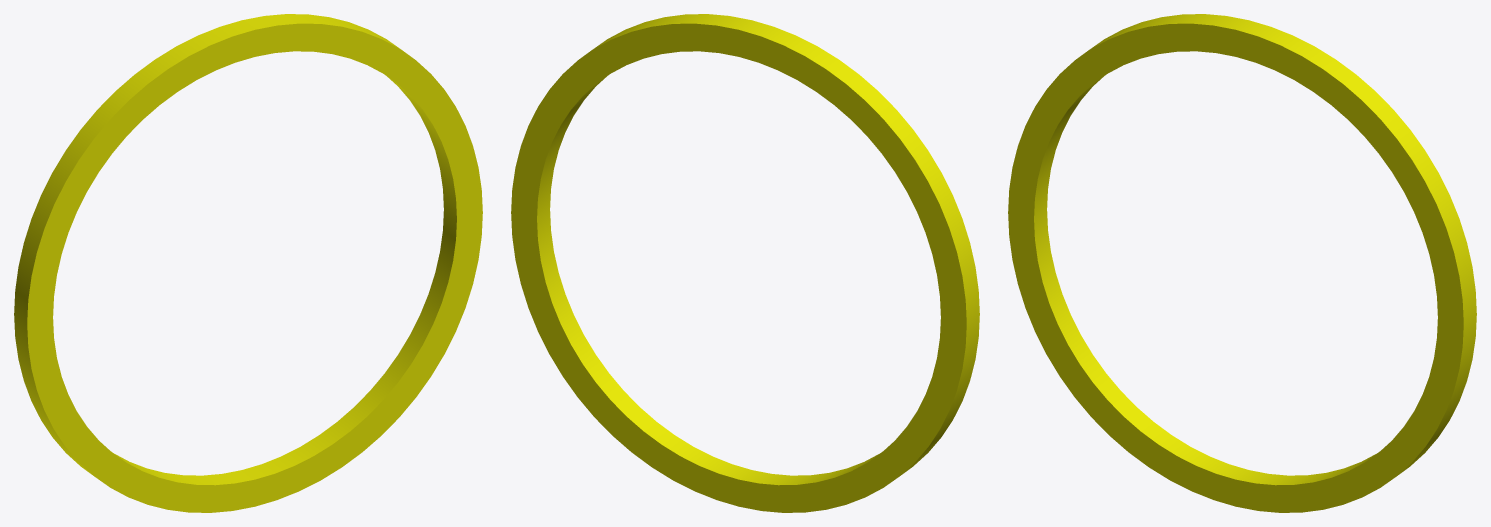
File: Ring.fbx
3 views of the same model, side by side, from view 1: azimuth 30°, elevation 25°; view 2: azimuth 150°, elevation 25°; view 3: azimuth 330°, elevation 25° (orthographic).
Visible parts, largest first — view 1: Ring; view 2: Ring; view 3: Ring.
Boxes of the visible parts, box(x1,y1,x2,y2) form: Ring: box(14, 14, 482, 512); Ring: box(511, 14, 979, 512); Ring: box(1008, 14, 1476, 512).
Bounding box in the file's own units: 3017 × 3017 × 150.
